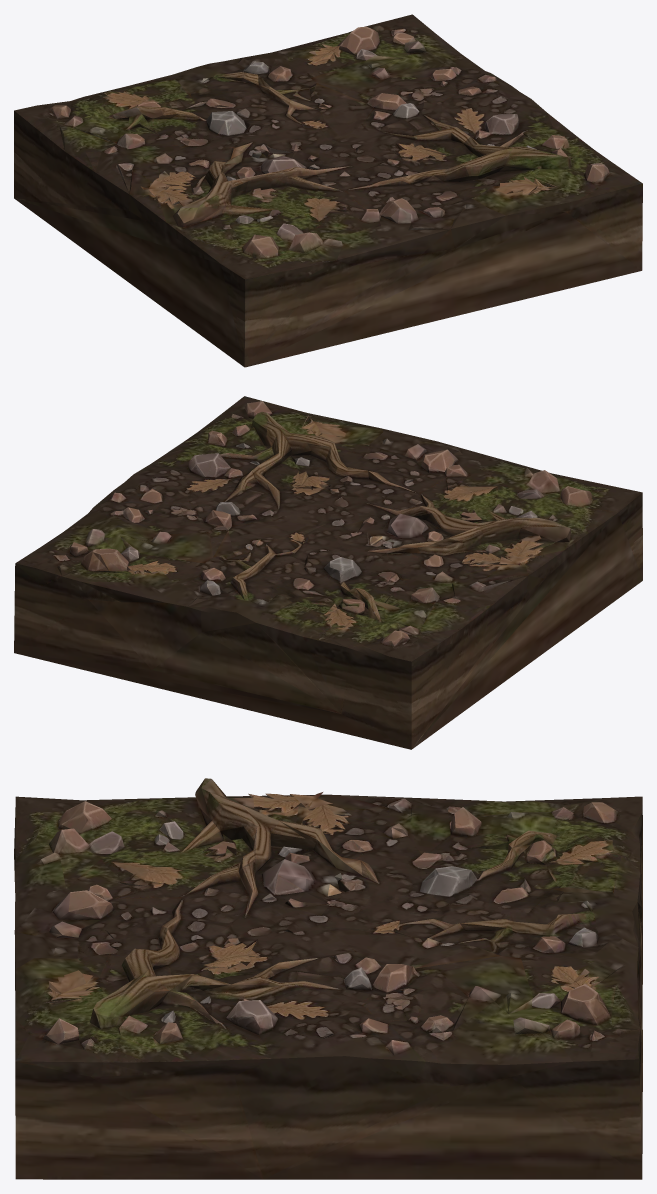
File: tile-dirt.glb
3 renders of one model, top to bottom at view 1: azimuth 30°, elevation 25°; view 2: azimuth 150°, elevation 25°; view 3: azimuth 270°, elevation 25°, orthographic. The views are drawn at different scales.
Visible parts, largest first — view 1: Mesh_0; view 2: Mesh_0; view 3: Mesh_0.
Part boxes in pixels (x1,y1,x2,y2): Mesh_0: (14, 14, 642, 367); Mesh_0: (14, 396, 642, 749); Mesh_0: (14, 778, 642, 1179).
Bounding box in the file's own units: 1.89 × 0.4933 × 1.9.
Materials: 1 (1 with a texture image).
